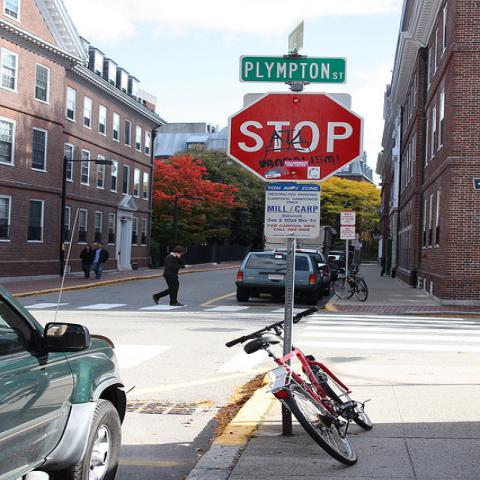car: (3, 280, 130, 474), (235, 252, 328, 305), (269, 248, 332, 286), (328, 250, 345, 267)
